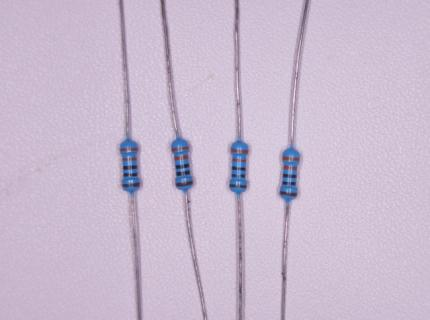Black band: (283, 174, 297, 179), (176, 171, 190, 176), (232, 166, 245, 171), (282, 181, 296, 185), (175, 164, 189, 168), (123, 166, 137, 170), (123, 173, 137, 177), (232, 174, 246, 177)
Brown band: (280, 190, 297, 197), (176, 180, 192, 187), (122, 182, 140, 188), (230, 184, 247, 188)
Orange band: (231, 148, 248, 154), (171, 146, 189, 151), (282, 156, 300, 161), (119, 147, 137, 151), (284, 165, 298, 170), (175, 155, 188, 160), (122, 157, 137, 161), (232, 158, 246, 162)
